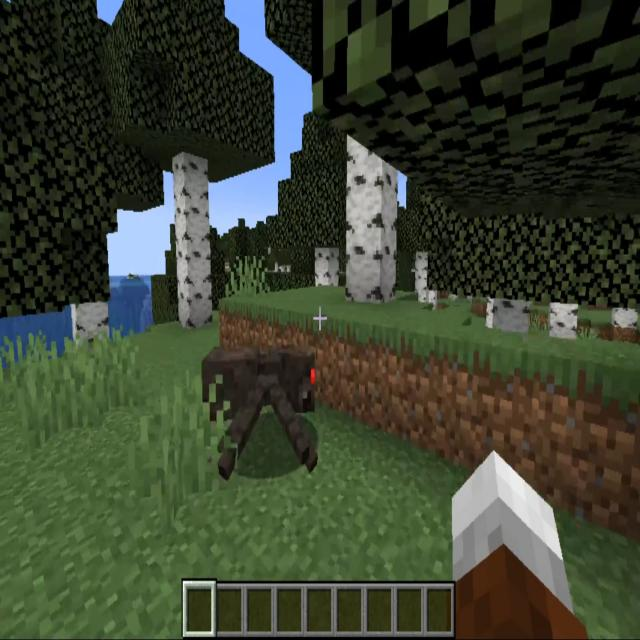Spider: (193, 343, 324, 481)
